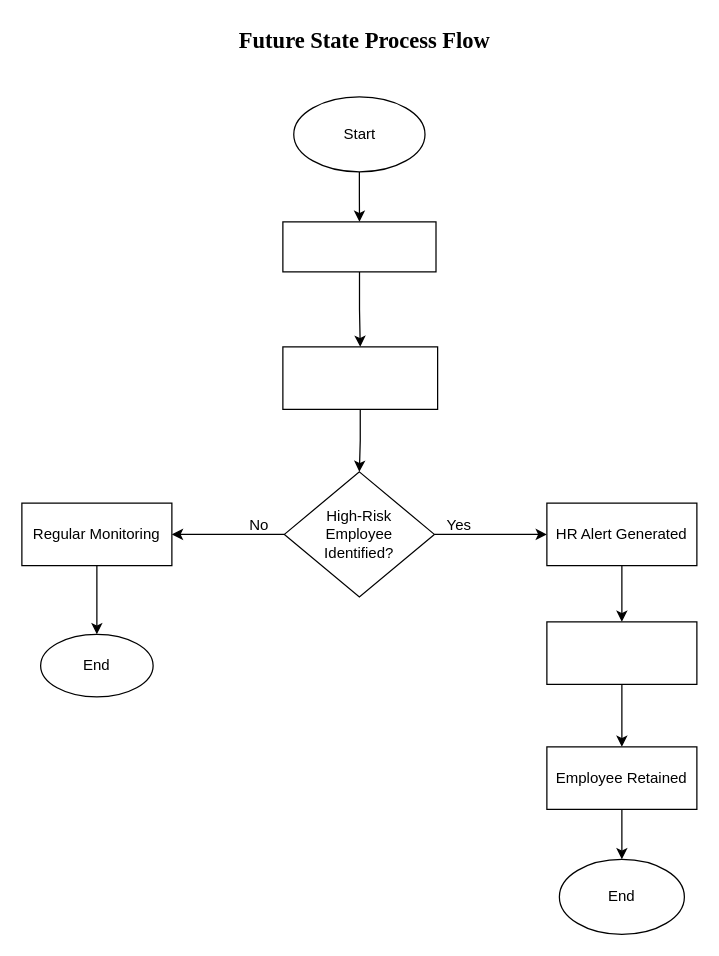
The diagram is 719 pixels wide and 956 high, and some of its shapes have lost their labels. Each missing label, with the box of its shape:
Employee Attrition Analysis Performed: (282, 346, 438, 409)
Employee Data Collected: (282, 221, 436, 272)
Retention Action Taken: (546, 621, 697, 684)
